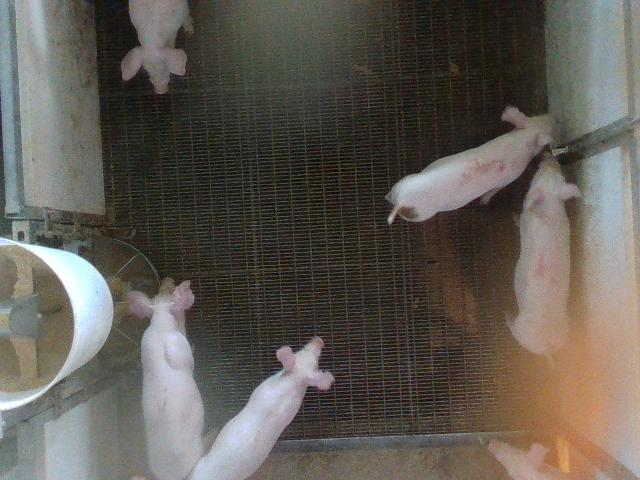pig-4: (508, 152, 580, 356)
pig-5: (385, 106, 555, 223)
